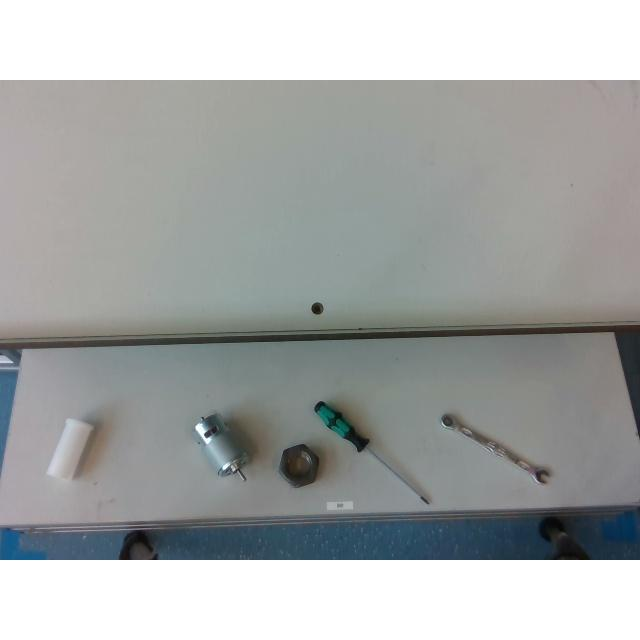M30: (278, 444, 318, 488)
Motor2: (194, 414, 246, 478)
Screwdriver: (314, 401, 430, 504)
Spacer: (46, 418, 94, 480)
Wrench: (441, 413, 552, 485)
